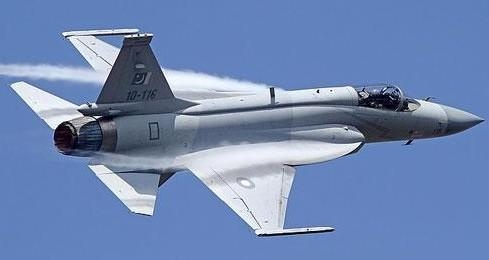airplane: (9, 26, 489, 236)
